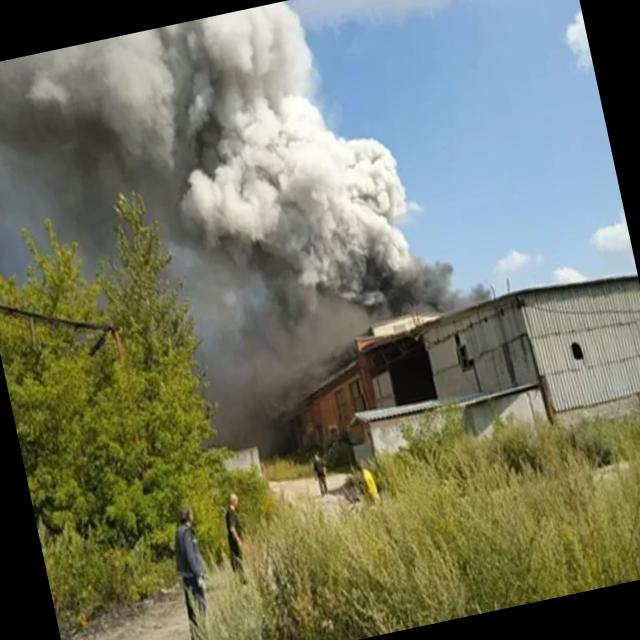Smoke: (0, 0, 496, 409)
